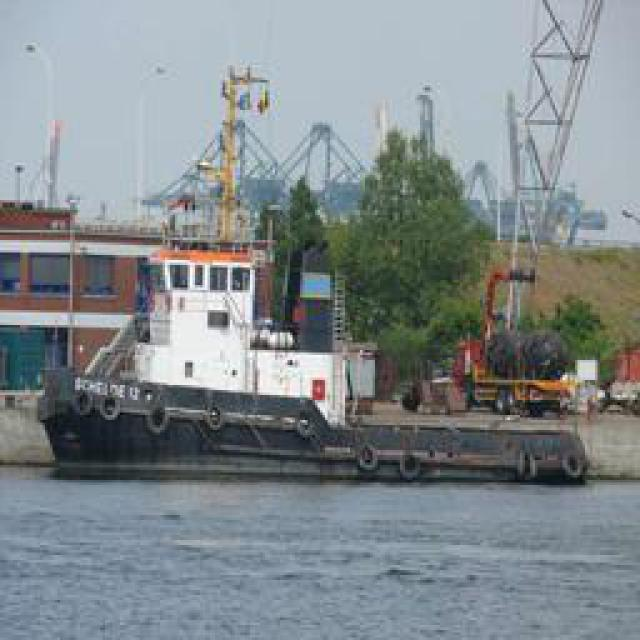Ship: (31, 79, 571, 474)
